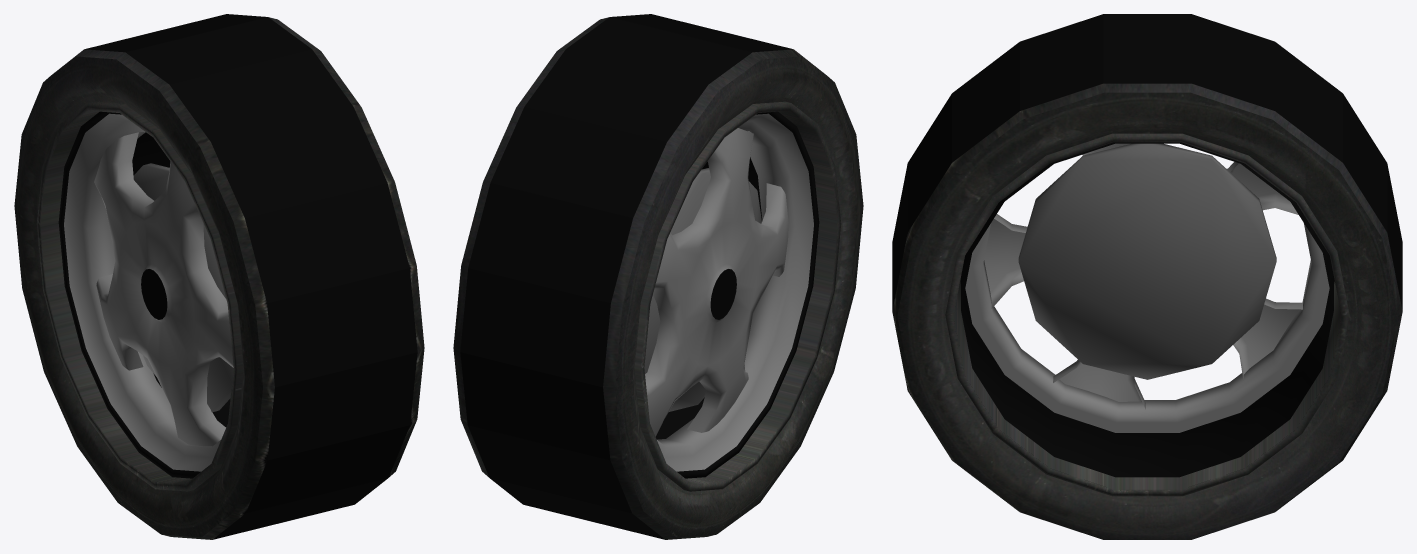
Rendered from M3_wheel.obj.
3 renders of one model, left to right at view 1: azimuth 30°, elevation 25°; view 2: azimuth 150°, elevation 25°; view 3: azimuth 270°, elevation 25°, orthographic.
Size of the model in its own units: 0.239 by 0.5942 by 0.6027.
1 material, 1 textured.
